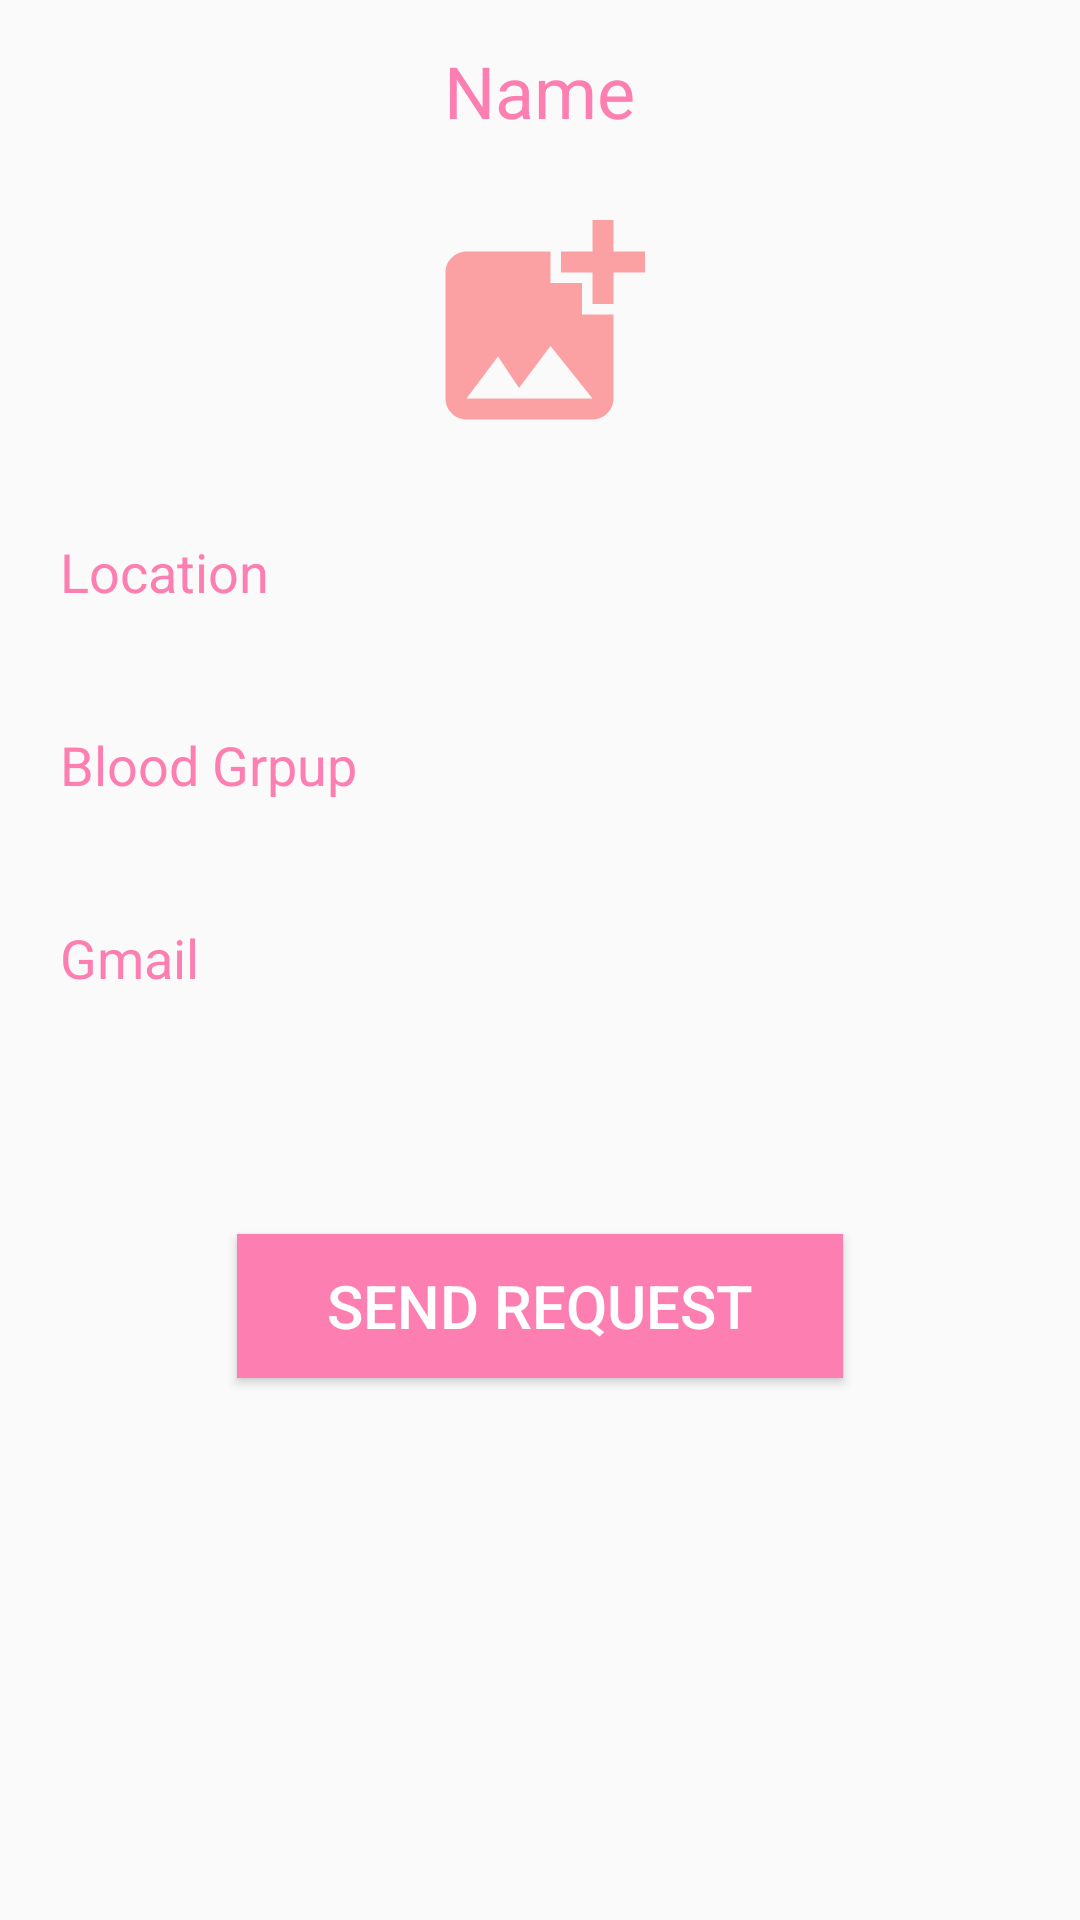

Icons on this 1080×1920 Android screen, each with the point to tap as (x=x, y=y):
add photo alternate: (x=545, y=320)
